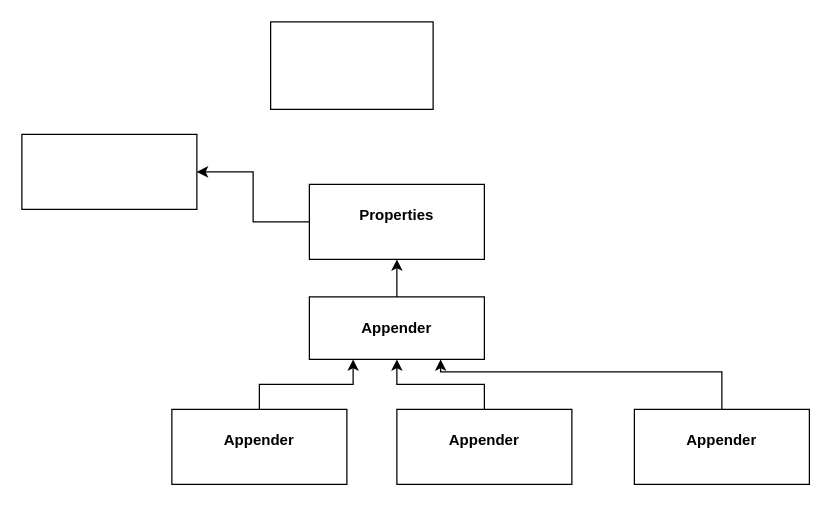
Image size: 831x506. Some labels were removed from this diagram. Here are the shapes that lost their labels. From the top down, the box of each, then its label:
(269, 21, 433, 109): «interface» Log
(21, 133, 197, 209): Logger
